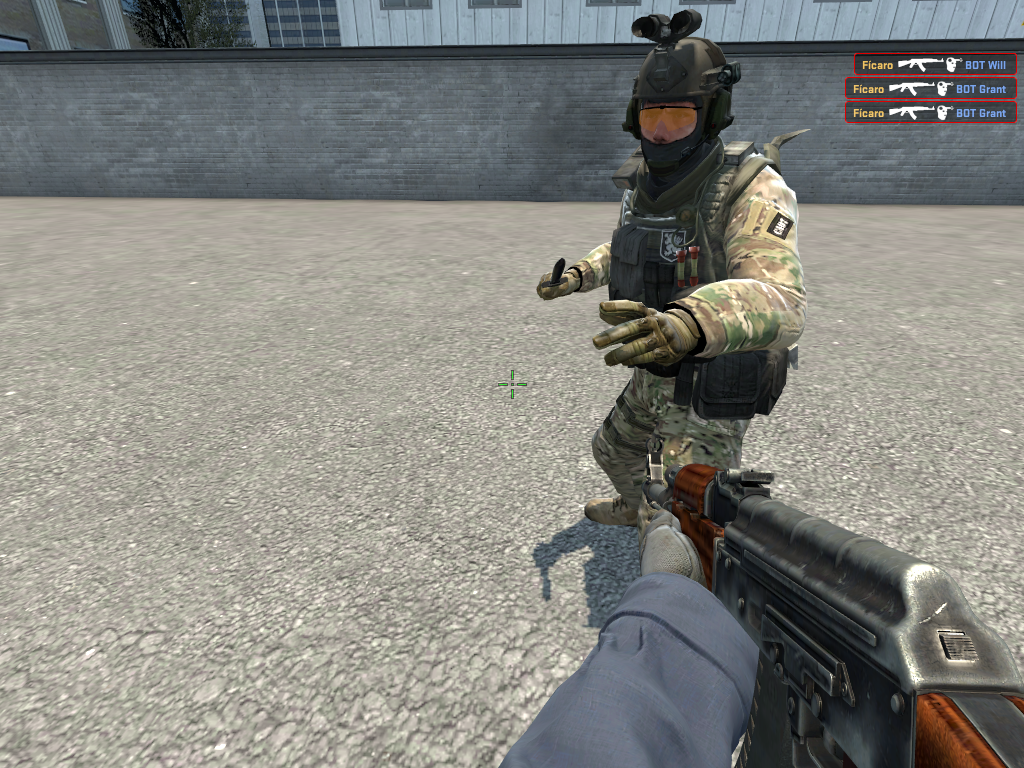ct head: (615, 32, 739, 175)
